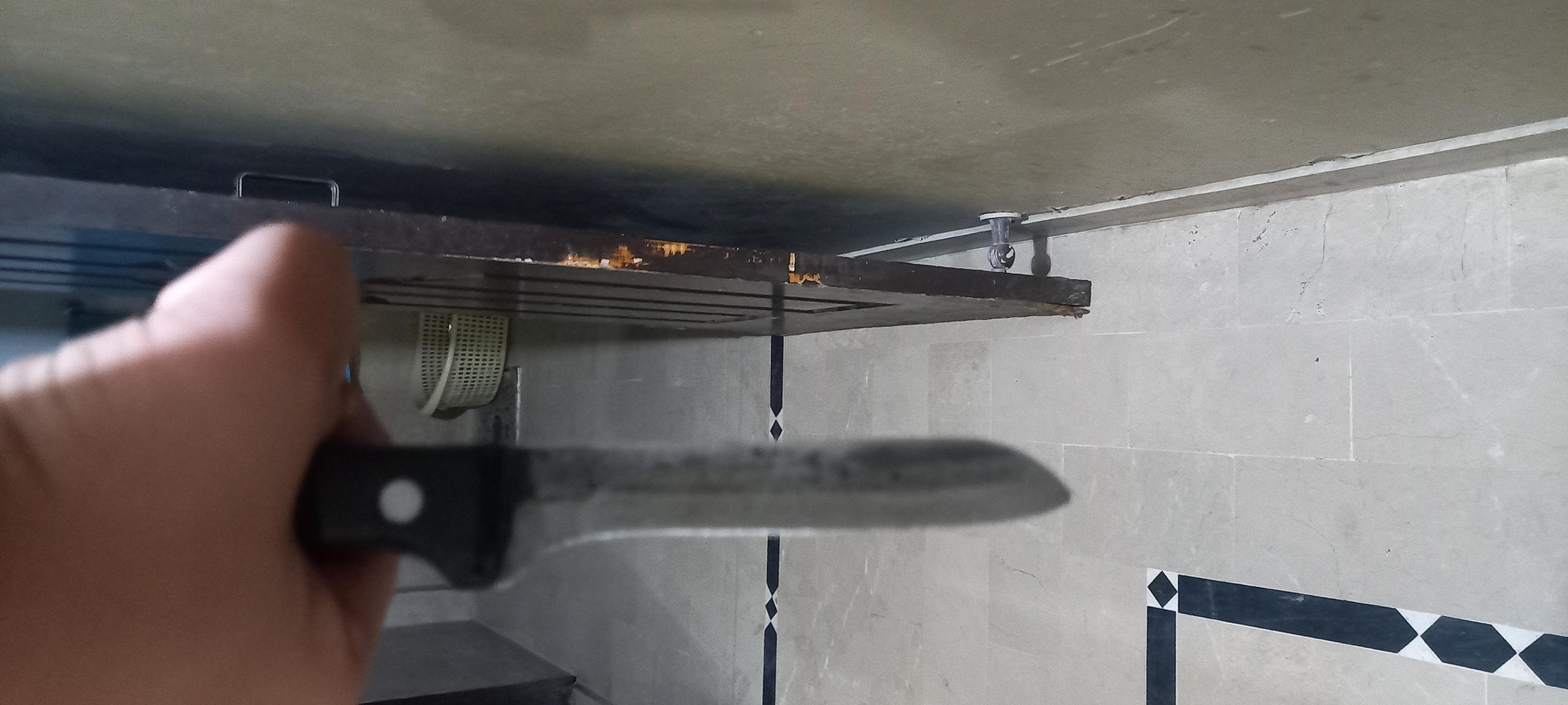knives: (182, 152, 754, 501)
